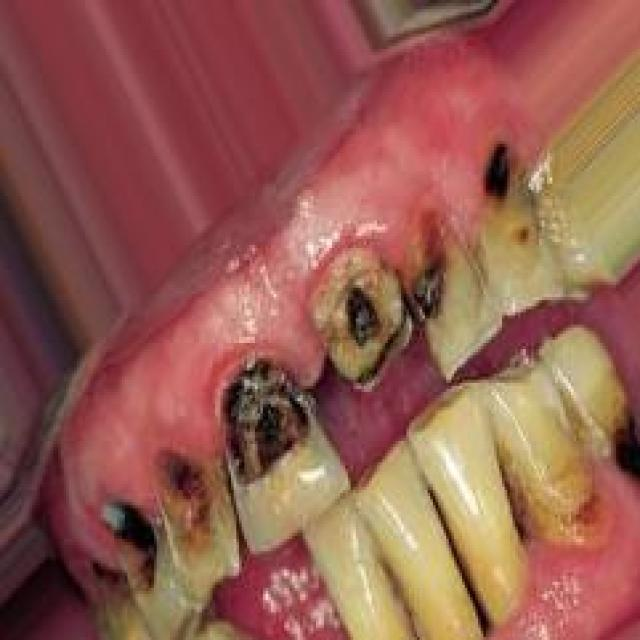caries: (312, 247, 417, 396), (218, 360, 320, 502), (153, 442, 236, 599), (463, 136, 544, 287), (403, 207, 478, 351), (100, 488, 168, 600), (83, 555, 140, 640), (594, 389, 640, 486)
